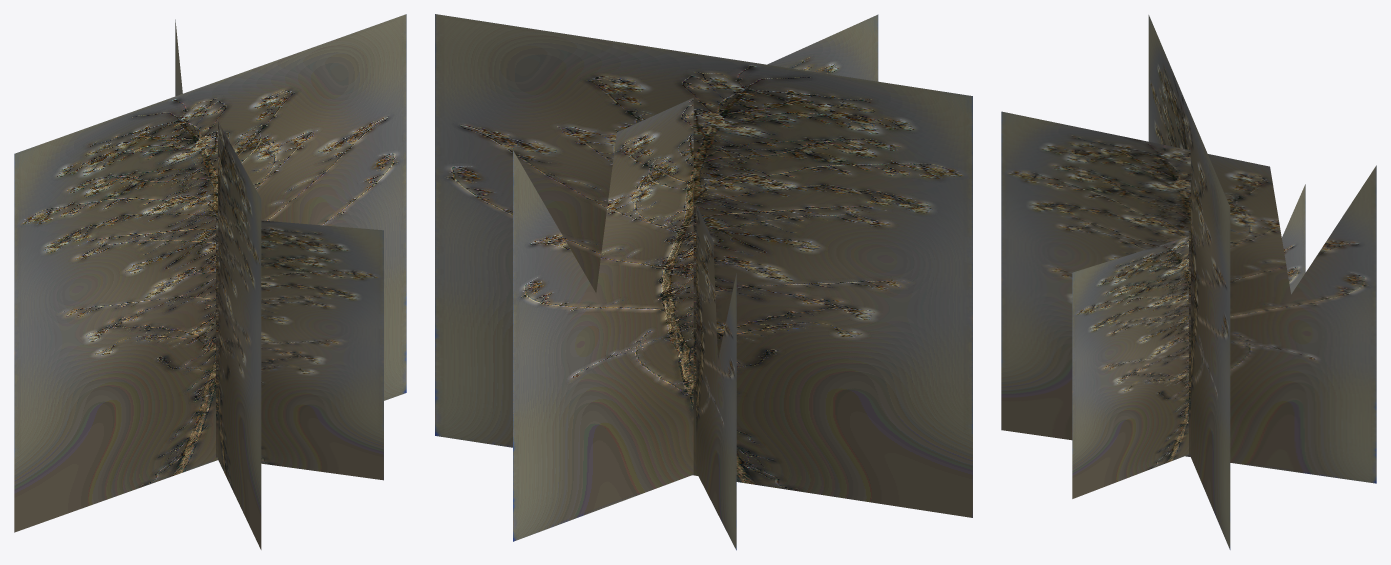
3 views of the same model, side by side, from view 1: azimuth 30°, elevation 25°; view 2: azimuth 150°, elevation 25°; view 3: azimuth 270°, elevation 25° (orthographic). The views are drawn at different scales.
Parts seen in each view (by area): view 1: Grass063; view 2: Grass063; view 3: Grass063.
Boxes of the visible parts, bbox=[...] form: Grass063: bbox=[14, 14, 406, 549]; Grass063: bbox=[435, 14, 972, 550]; Grass063: bbox=[1001, 15, 1376, 549].
Bounding box in the file's own units: 20.88 × 17.27 × 17.1.
